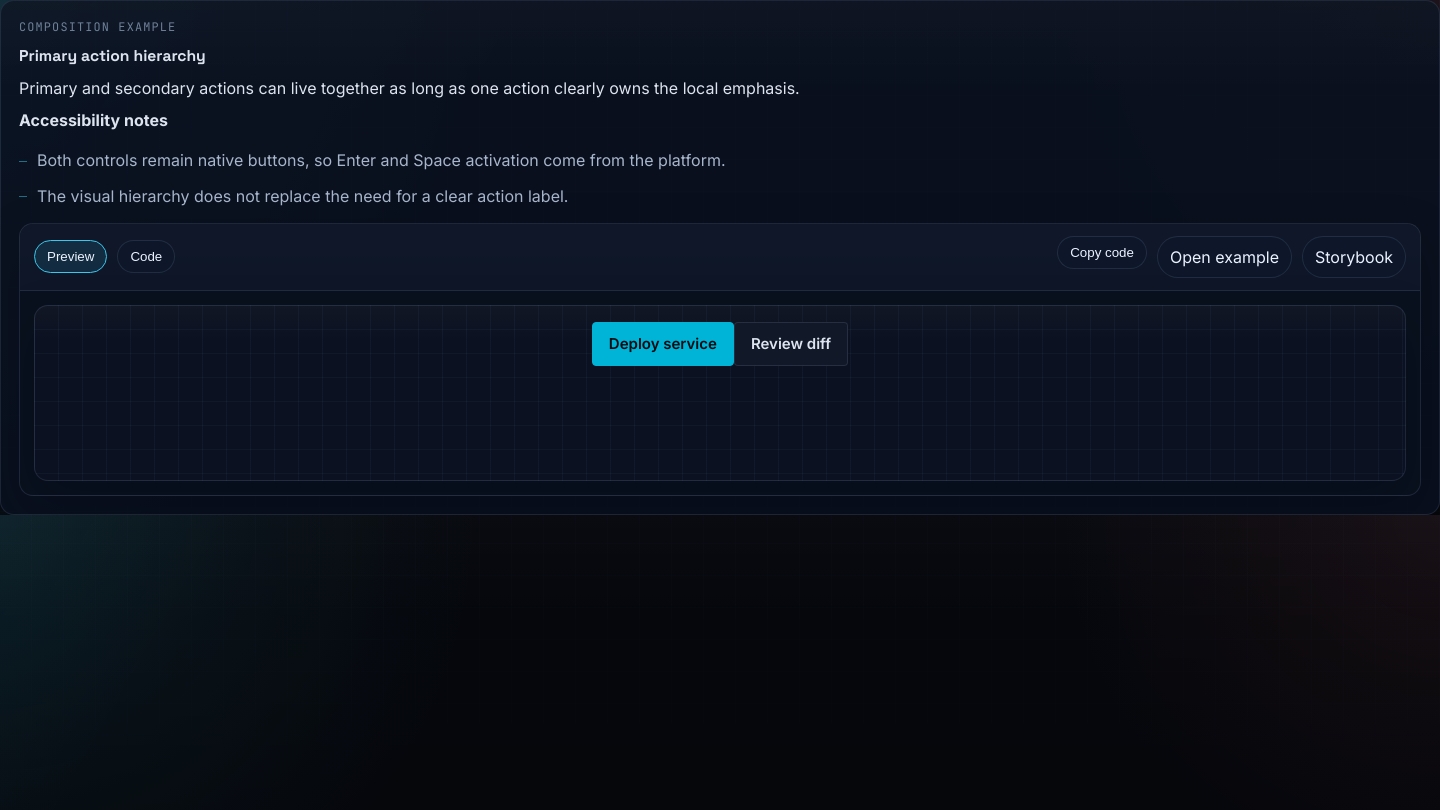
Scenario: ComponentExampleSection › reports copy failures
Click the button "Copy code". click: [1102, 252]
box: x1=1057 y1=236 x2=1147 y2=269
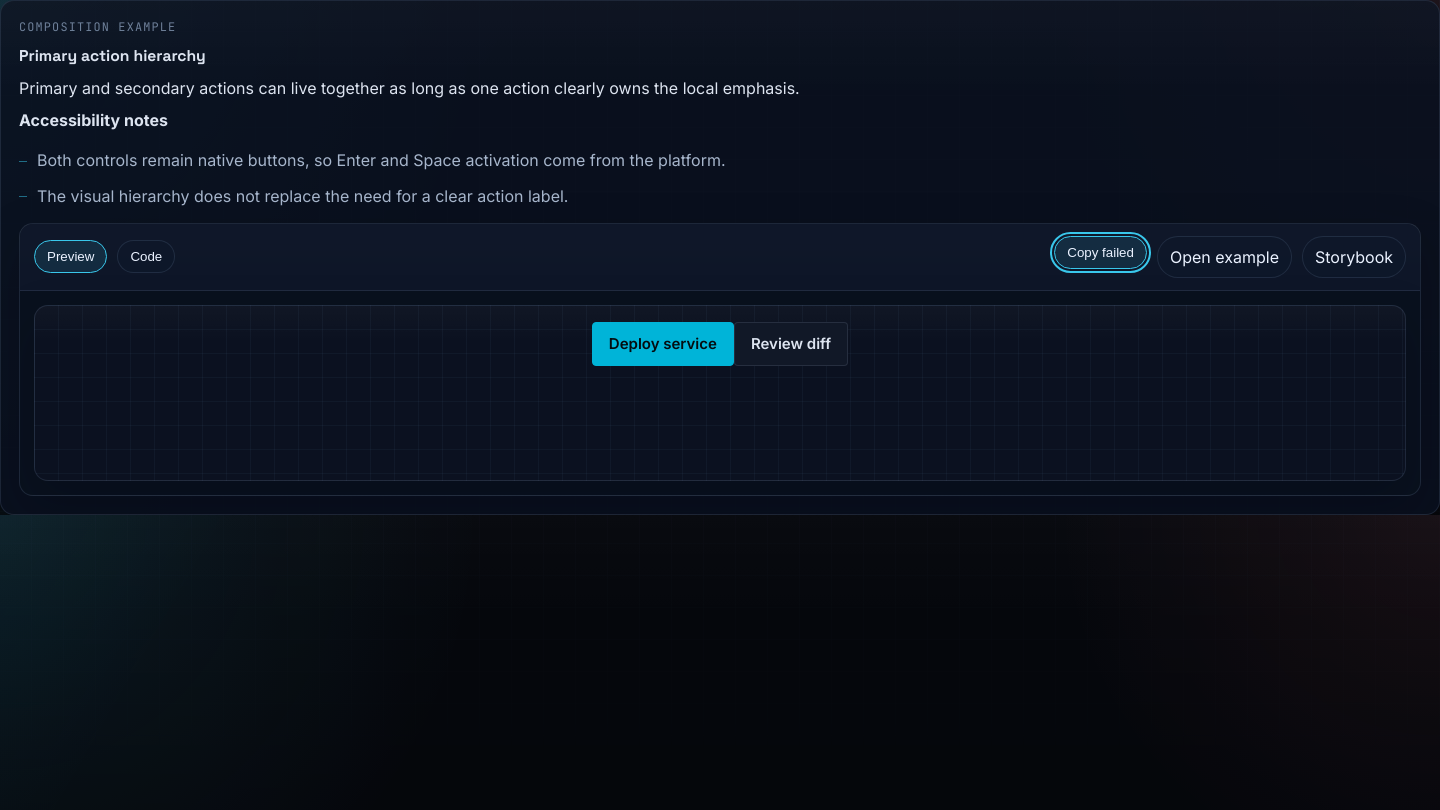
Check: the button "Copy failed" is shown, box x1=1054 y1=236 x2=1147 y2=269
